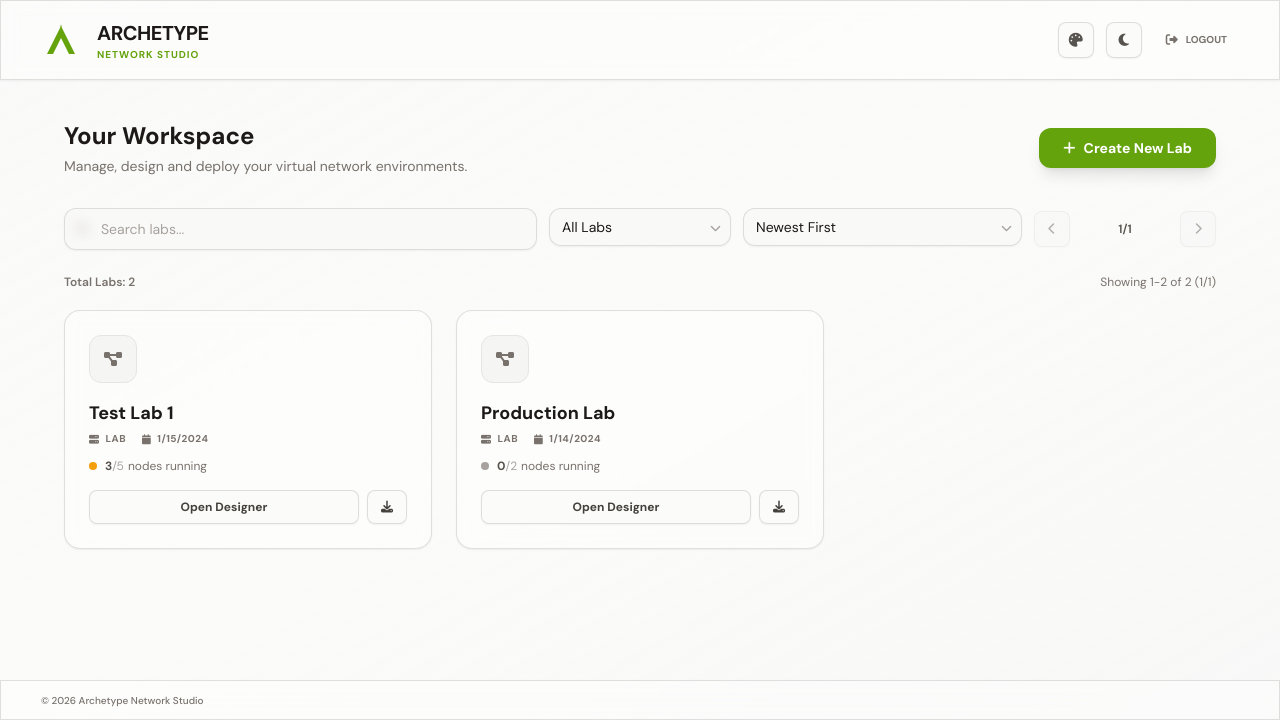
Test case: Dashboard › filters labs by running/stopped state
Select "Running" in the dropdown named "Filter labs" at x=640, y=227, box [549,208,731,246]
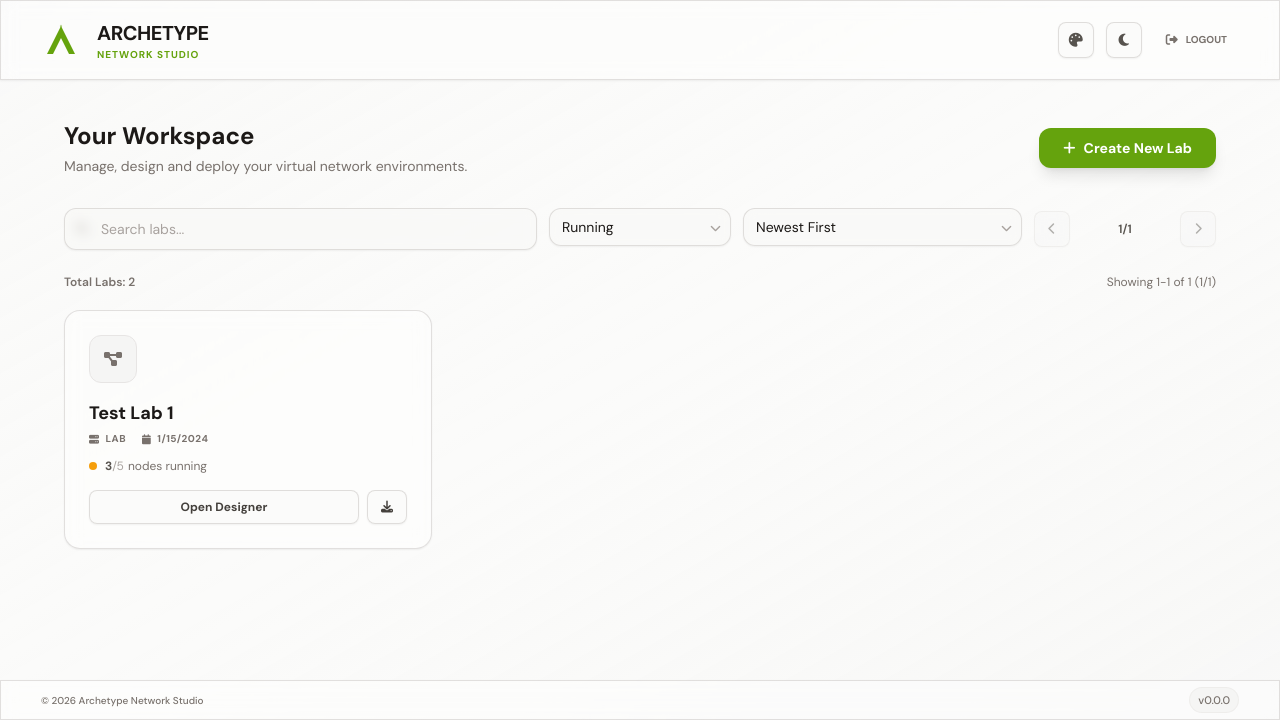
Expected: the heading "Test Lab 1" is shown, [89,401,174,425]
Result: the heading "Production Lab" is gone
